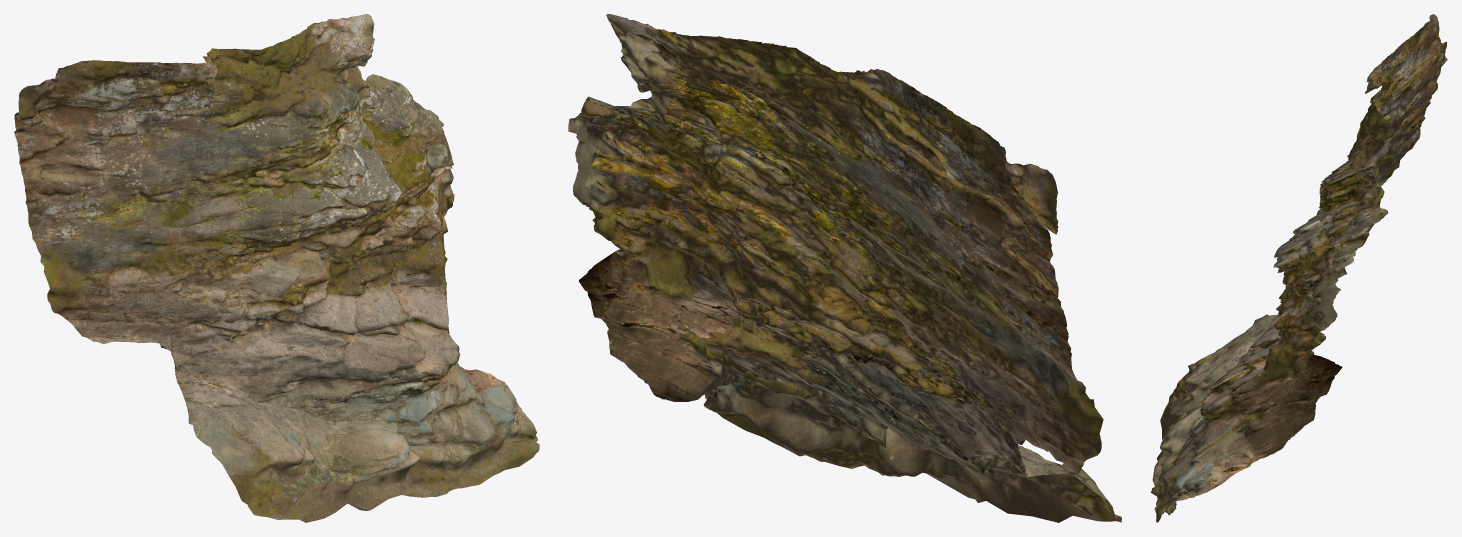
File: rock_face_02.glb
3 views of the same model, side by side, from view 1: azimuth 30°, elevation 25°; view 2: azimuth 150°, elevation 25°; view 3: azimuth 270°, elevation 25° (orthographic). The views are drawn at different scales.
Parts seen in each view (by area): view 1: rock_face_02; view 2: rock_face_02; view 3: rock_face_02.
Boxes of the visible parts, x1,y1,x2,y2 form: rock_face_02: (14,14,539,522); rock_face_02: (568,14,1121,522); rock_face_02: (1150,14,1447,522).
Size of the model in its own units: 4.87 by 4.73 by 3.47.
Materials: 1 (1 with a texture image).
